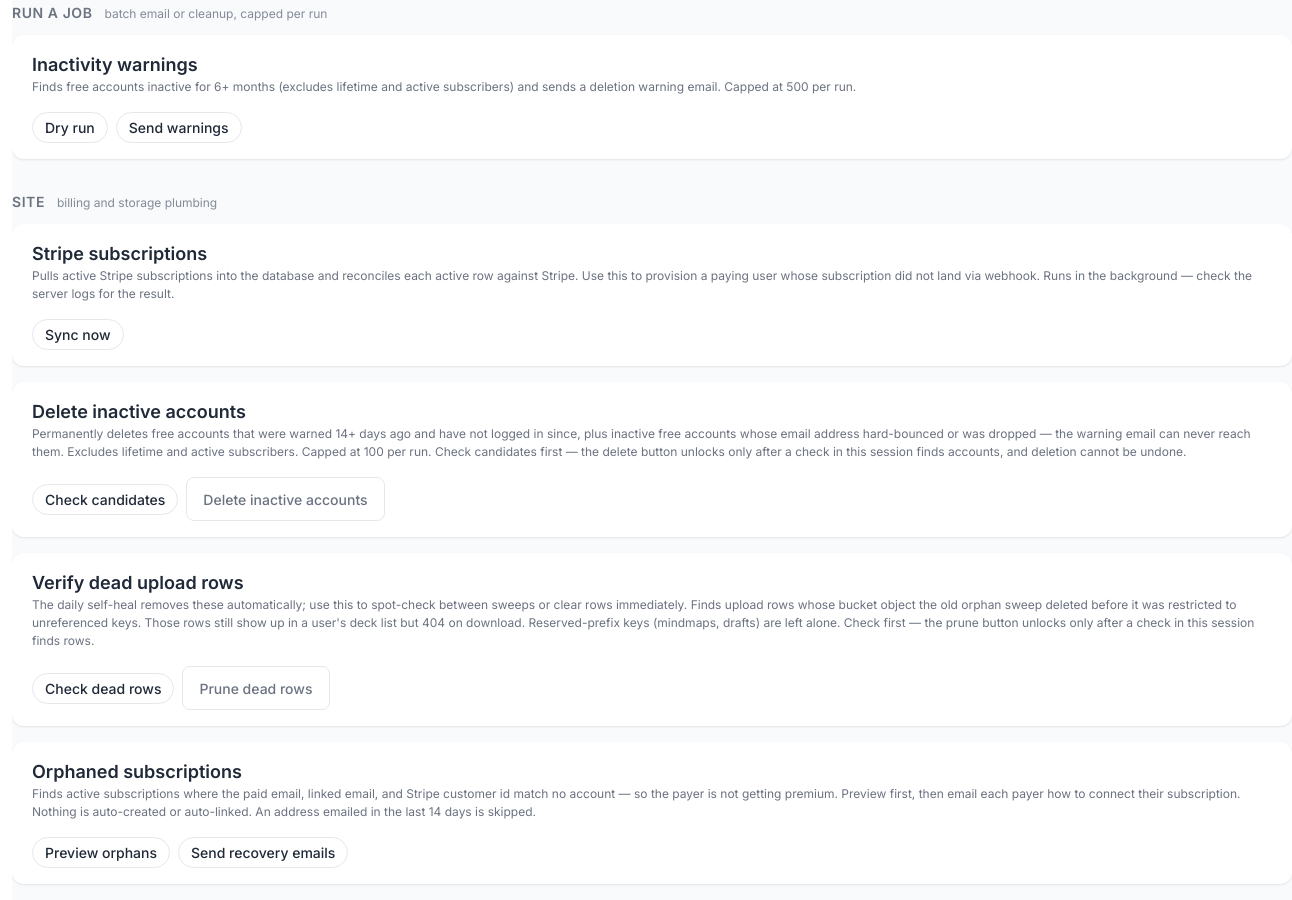
Test case: CommandsTab — prune dead upload rows › keeps the prune button locked when the check finds nothing
(page scrolled)
Click the button "Check dead rows" at [103, 688], box [32,672,174,704]
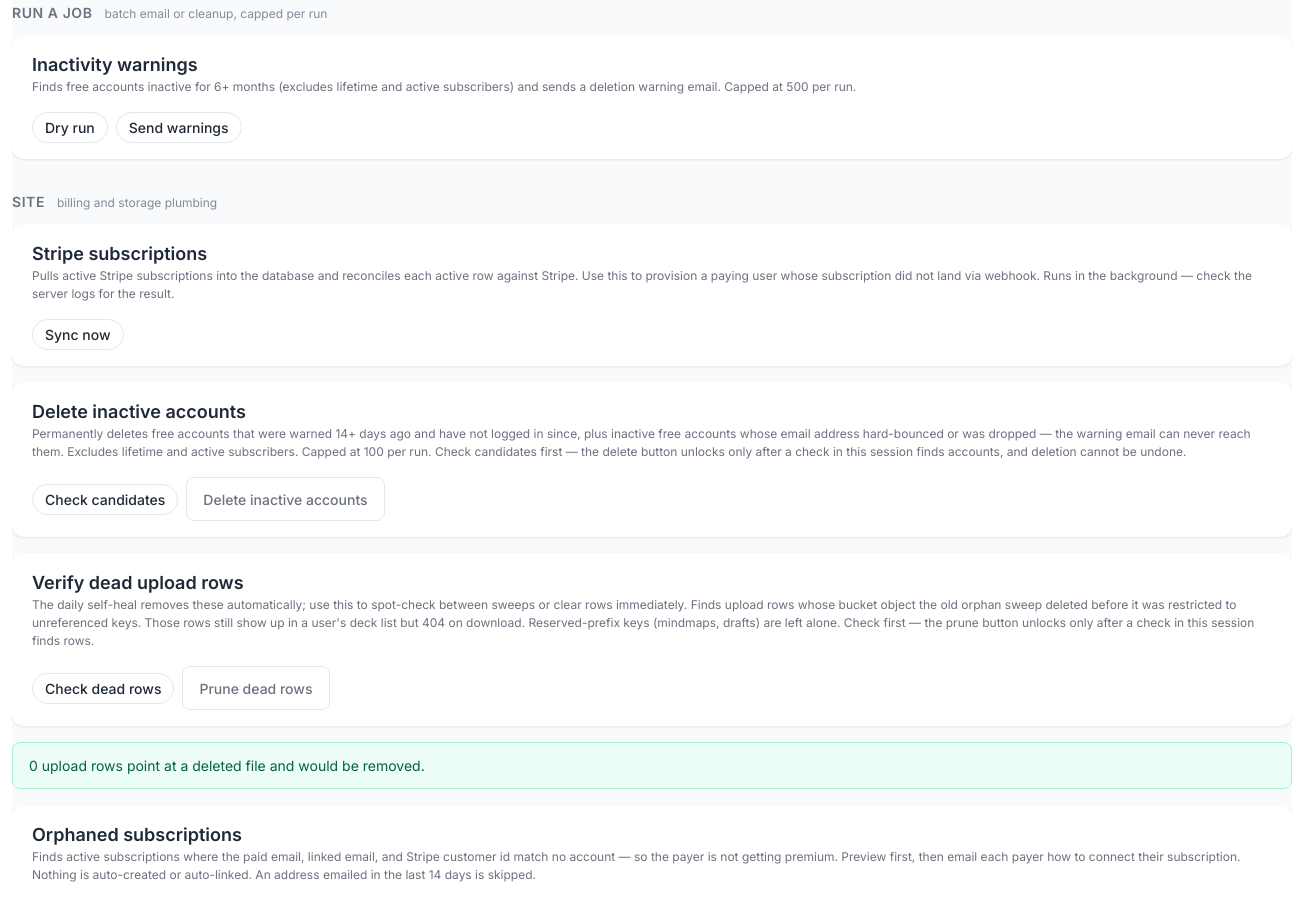
Expected: the button "Prune dead rows" is disabled, [182,666,330,710]
Expected: the text "0 upload rows point at a deleted file and would be removed." is shown, [12,742,1291,789]
